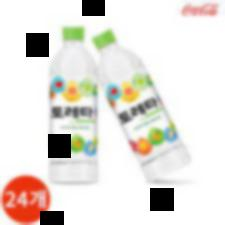toreta: (48, 23, 100, 187)
